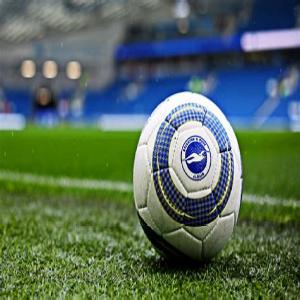Football: (130, 90, 244, 272)
